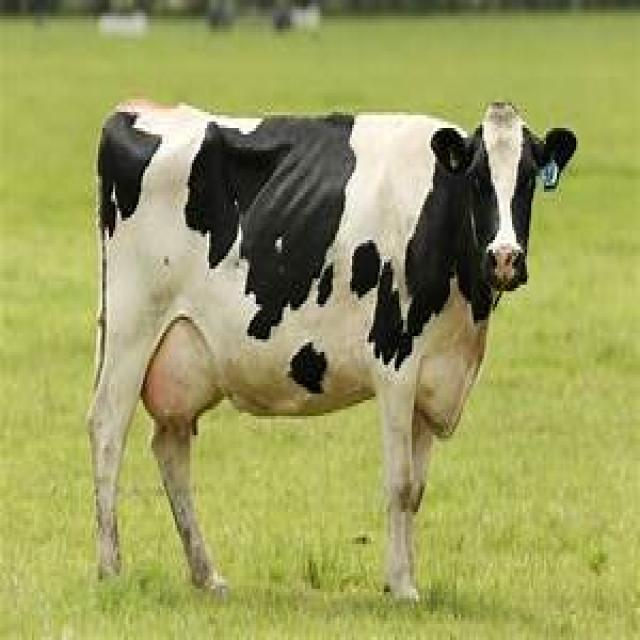cow: (85, 99, 580, 605)
